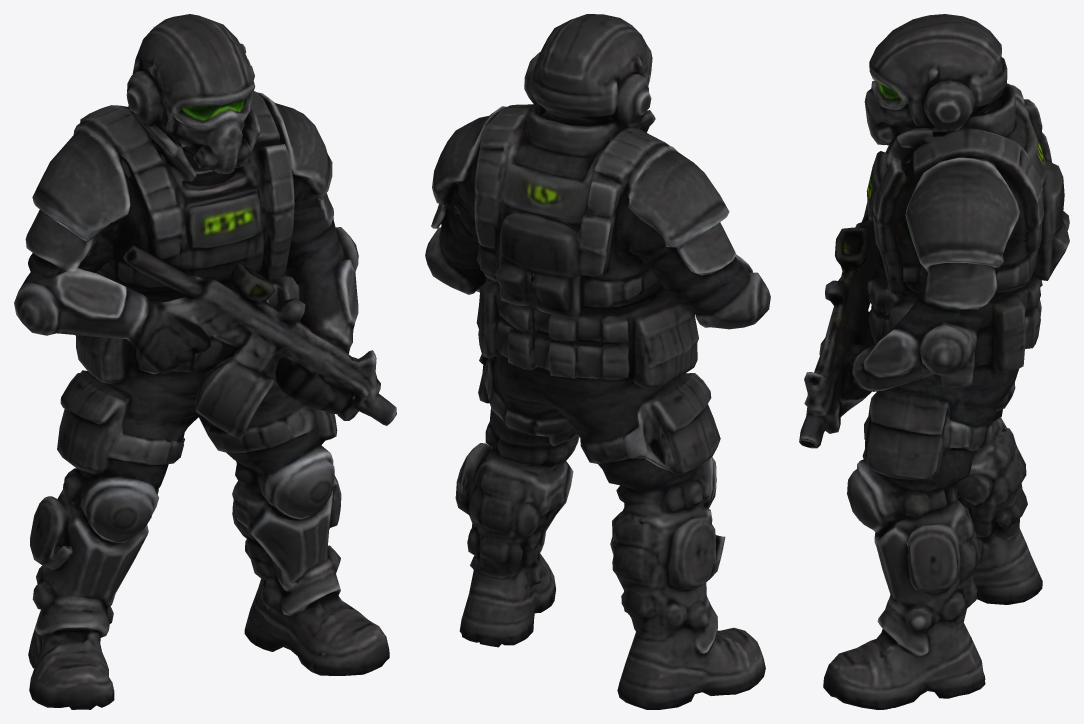
The model's file is sentinel_l03.glb.
3 renders of one model, left to right at view 1: azimuth 30°, elevation 25°; view 2: azimuth 150°, elevation 25°; view 3: azimuth 270°, elevation 25°, orthographic. The views are drawn at different scales.
Parts seen in each view (by area): view 1: world; view 2: world; view 3: world.
Part boxes in pixels (x1,y1,x2,y2): world: [14, 14, 396, 709]; world: [425, 14, 770, 709]; world: [799, 14, 1069, 709].
Size of the model in its own units: 0.5565 by 1 by 0.3959.
1 material, 1 textured.
